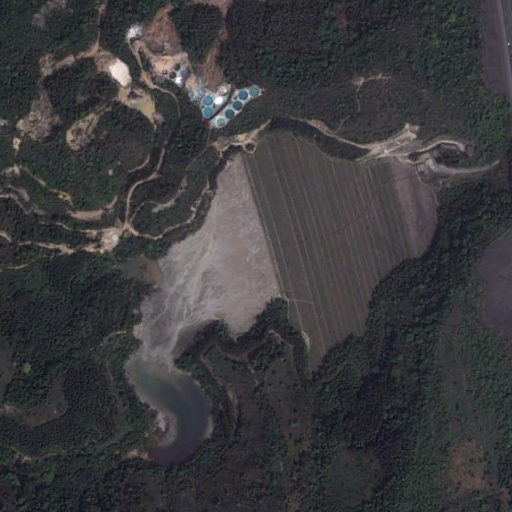tp: (108, 125, 441, 468)
